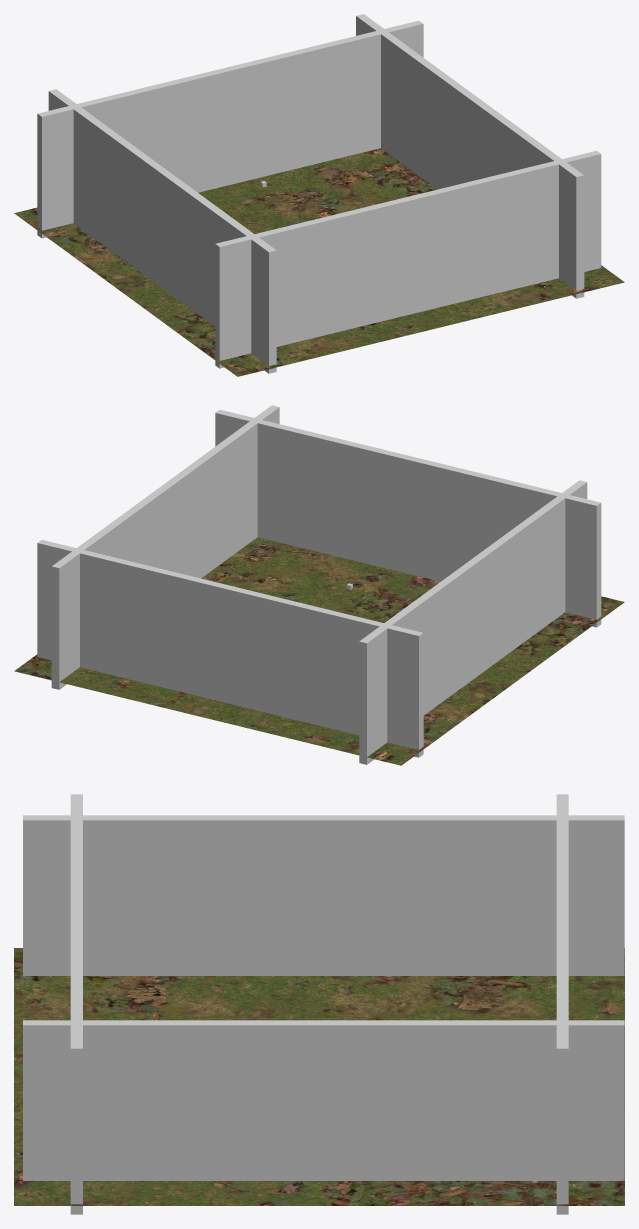
The model's file is ColMap2.fbx.
The picture shows the model from 3 angles, top to bottom: view 1: azimuth 30°, elevation 25°; view 2: azimuth 150°, elevation 25°; view 3: azimuth 270°, elevation 25°; orthographic projection. The views are drawn at different scales.
Parts seen in each view (by area): view 1: Cube__1_, Cube, Plane__1_, Cube__3_, Cube__2_; view 2: Cube, Cube__1_, Plane__1_, Cube__3_, Cube__2_; view 3: Cube__3_, Cube__2_, Plane__1_, Cube, Cube__1_.
Part boxes in pixels (box(x1,y1,x2,y2)): Cube__1_: box(215, 150, 601, 368); Cube: box(37, 20, 423, 238); Plane__1_: box(14, 148, 624, 376); Cube__3_: box(48, 89, 276, 373); Cube__2_: box(356, 14, 584, 298); Cube: box(37, 540, 423, 757); Cube__1_: box(215, 409, 601, 627); Plane__1_: box(14, 537, 624, 765); Cube__3_: box(359, 480, 587, 764); Cube__2_: box(51, 405, 279, 689); Cube__3_: box(23, 815, 624, 975); Cube__2_: box(23, 1020, 624, 1180); Plane__1_: box(14, 948, 624, 1205); Cube: box(556, 794, 568, 1214); Cube__1_: box(70, 794, 82, 1214).
Bounding box in the file's own units: 10000 × 3000 × 10000.
